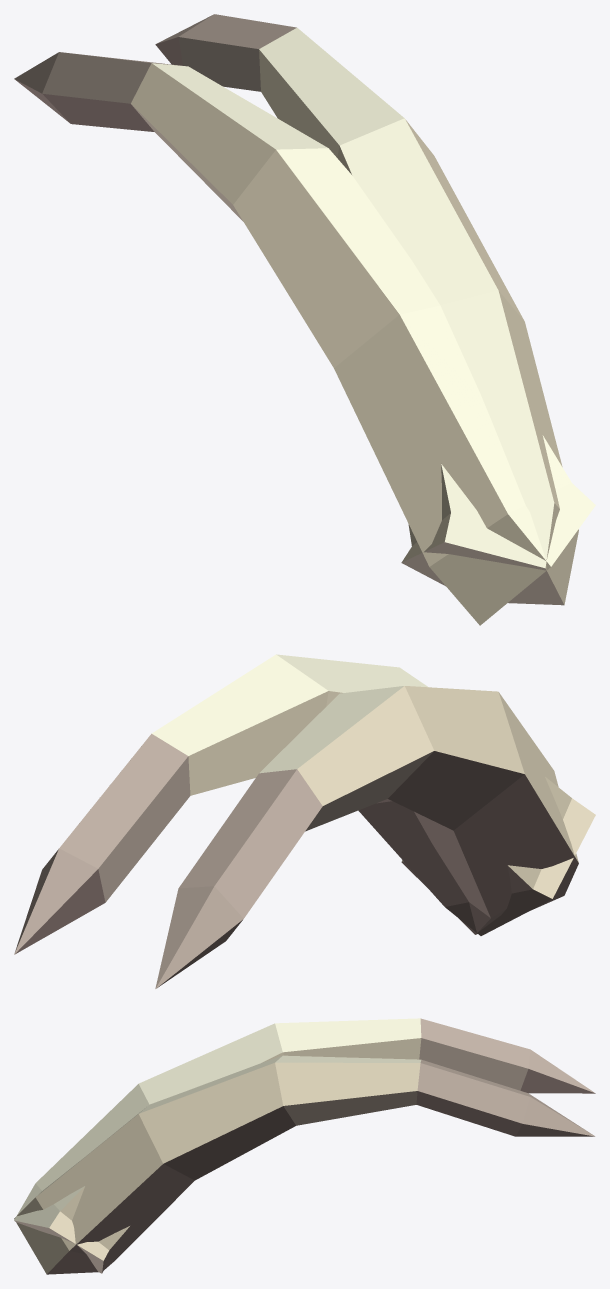
Rendered from horns_dragon_swept.glb.
3 renders of one model, top to bottom at view 1: azimuth 30°, elevation 25°; view 2: azimuth 150°, elevation 25°; view 3: azimuth 270°, elevation 25°, orthographic. The views are drawn at different scales.
Parts seen in each view (by area): view 1: Horn_R, Horn_L; view 2: Horn_R, Horn_L; view 3: Horn_L, Horn_R.
Boxes of the visible parts, <box> form: Horn_R: <box>14,52,595,625</box>; Horn_L: <box>155,14,578,605</box>; Horn_R: <box>155,686,578,988</box>; Horn_L: <box>14,654,595,954</box>; Horn_L: <box>14,1055,595,1274</box>; Horn_R: <box>14,1018,595,1273</box>.
Bounding box in the file's own units: 0.042 × 0.0736 × 0.1672.
1 material, 1 textured.
